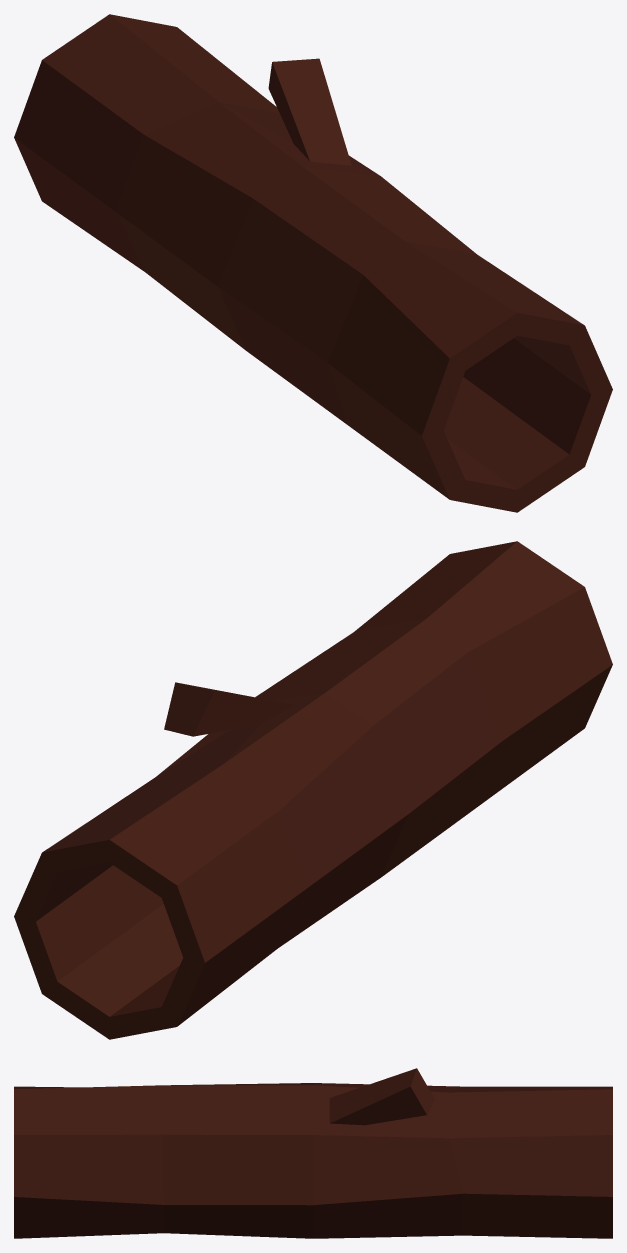
File: log_2b.fbx
3 views of the same model, one above another, from view 1: azimuth 30°, elevation 25°; view 2: azimuth 150°, elevation 25°; view 3: azimuth 270°, elevation 25° (orthographic). The views are drawn at different scales.
Parts seen in each view (by area): view 1: log_2b; view 2: log_2b; view 3: log_2b.
Part boxes in pixels (x1=…): log_2b: x1=14, y1=14, x2=612, y2=512; log_2b: x1=14, y1=541, x2=612, y2=1039; log_2b: x1=14, y1=1068, x2=612, y2=1238.
Size of the model in its own units: 53.77 by 64.6 by 197.
